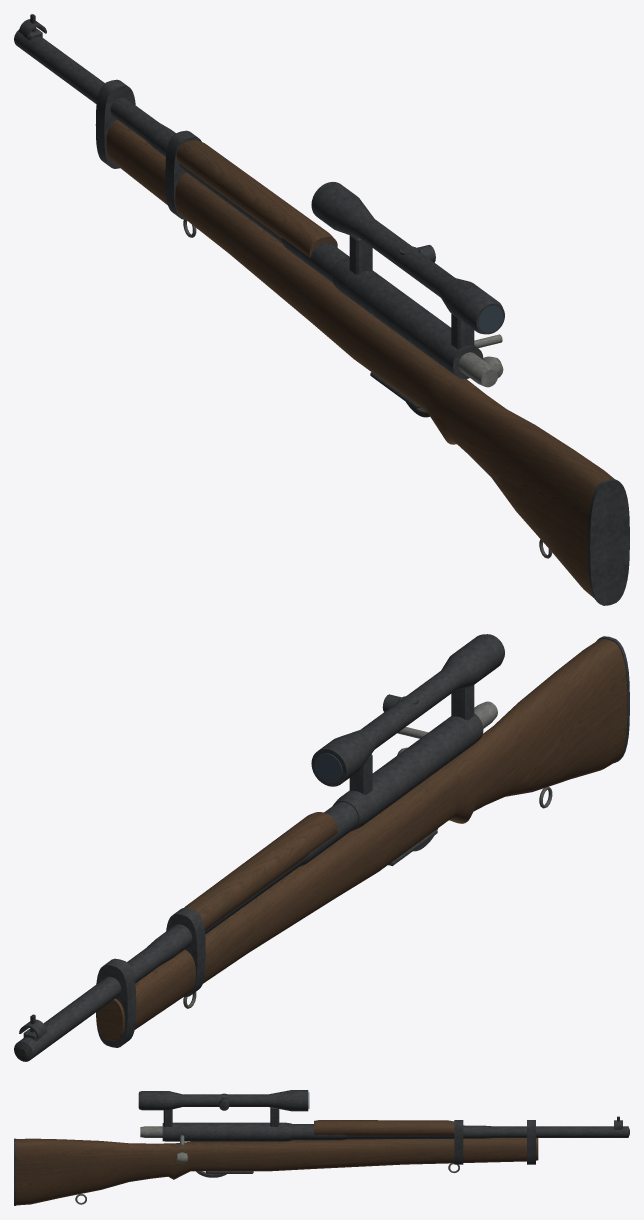
File: springfield.glb
3 views of the same model, one above another, from view 1: azimuth 30°, elevation 25°; view 2: azimuth 150°, elevation 25°; view 3: azimuth 270°, elevation 25° (orthographic). The views are drawn at different scales.
Visible parts, largest first — view 1: FP_body, TP_body, WD_body, FP_bolt; view 2: FP_body, TP_body, FP_bolt, WD_body; view 3: FP_body, TP_body, FP_bolt, WD_body.
Part boxes in pixels (x1,y1,x2,y2): FP_body: [14, 14, 629, 605]; TP_body: [16, 33, 629, 602]; WD_body: [105, 87, 626, 598]; FP_bolt: [458, 334, 503, 387]; FP_body: [14, 634, 629, 1061]; TP_body: [16, 637, 628, 1061]; FP_bolt: [397, 701, 497, 755]; WD_body: [19, 634, 502, 1049]; FP_body: [14, 1090, 629, 1205]; TP_body: [14, 1120, 628, 1205]; FP_bolt: [140, 1126, 188, 1163]; WD_body: [139, 1090, 307, 1109].
Size of the model in its own units: 0.0775 by 0.224 by 1.1.
6 materials, 5 textured.
